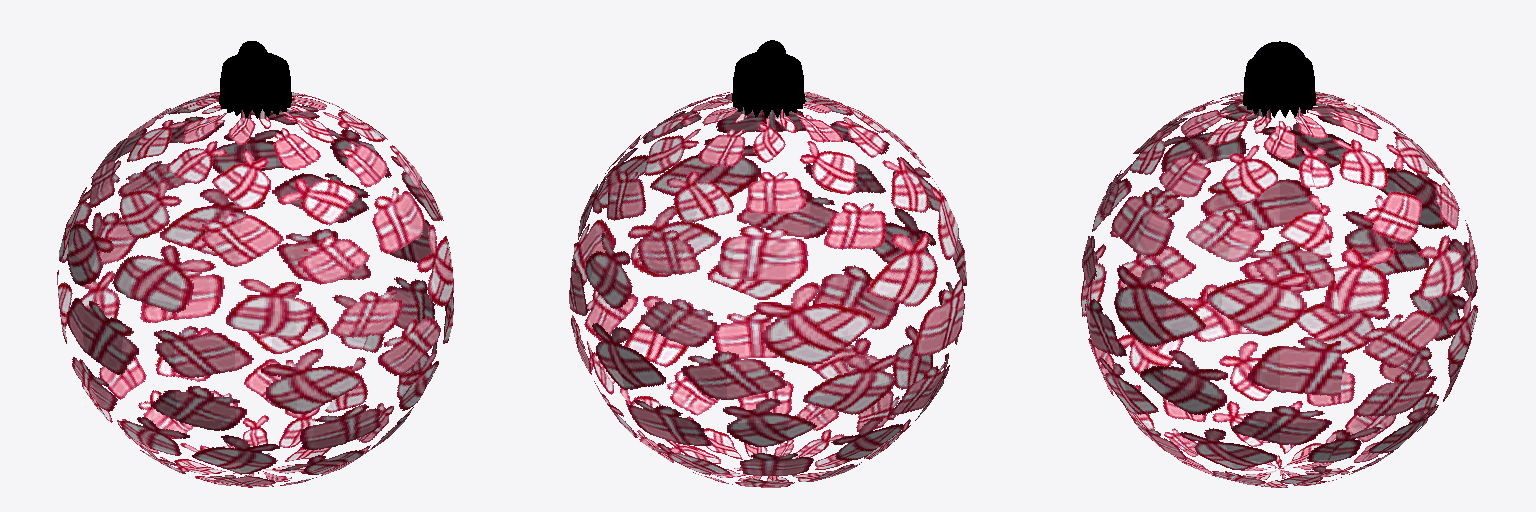
3 renders of one model, left to right at view 1: azimuth 30°, elevation 25°; view 2: azimuth 150°, elevation 25°; view 3: azimuth 270°, elevation 25°, orthographic.
Parts seen in each view (by area): view 1: Glass_Ball1Red_Bulb1, Red_Bulbtop_crownpPipe2, Red_BulbpTorus1top_crown1; view 2: Glass_Ball1Red_Bulb1, Red_Bulbtop_crownpPipe2, Red_BulbpTorus1top_crown1; view 3: Glass_Ball1Red_Bulb1, Red_Bulbtop_crownpPipe2, Red_BulbpTorus1top_crown1.
Boxes of the visible parts, box(x1,y1,x2,y2) form: Glass_Ball1Red_Bulb1: box(57, 92, 453, 487); Red_Bulbtop_crownpPipe2: box(219, 53, 292, 118); Red_BulbpTorus1top_crown1: box(238, 41, 272, 72); Glass_Ball1Red_Bulb1: box(569, 92, 966, 487); Red_Bulbtop_crownpPipe2: box(732, 52, 805, 117); Red_BulbpTorus1top_crown1: box(751, 40, 785, 72); Glass_Ball1Red_Bulb1: box(1081, 91, 1477, 487); Red_Bulbtop_crownpPipe2: box(1243, 57, 1315, 117); Red_BulbpTorus1top_crown1: box(1252, 41, 1306, 65).
Bounding box in the file's own units: 1.21 × 1.42 × 1.21.
2 materials, 1 textured.